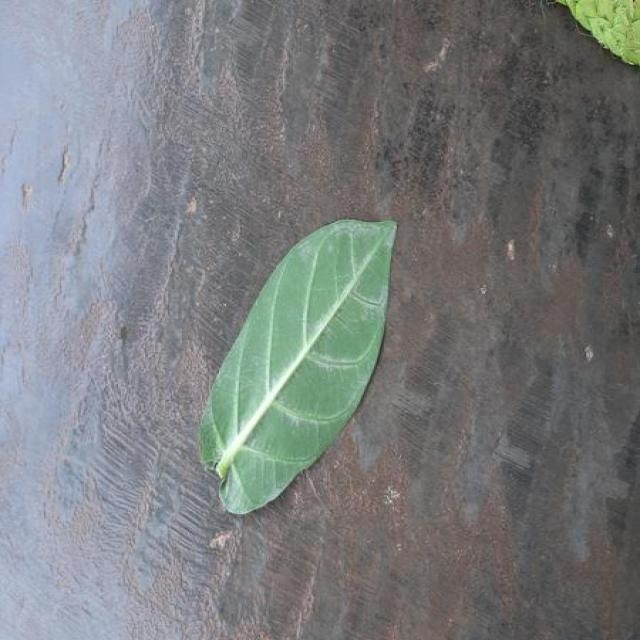ekka: (200, 221, 394, 514)
